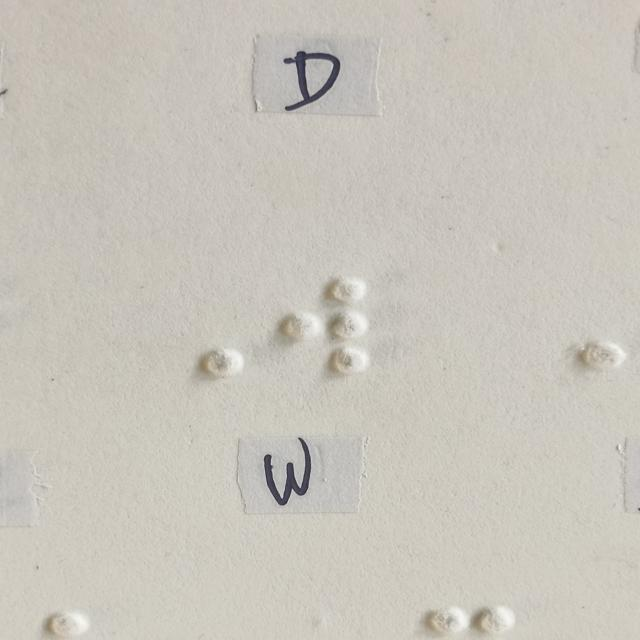capital_sign: (157, 277, 243, 378)
letter_W: (284, 278, 369, 379)
